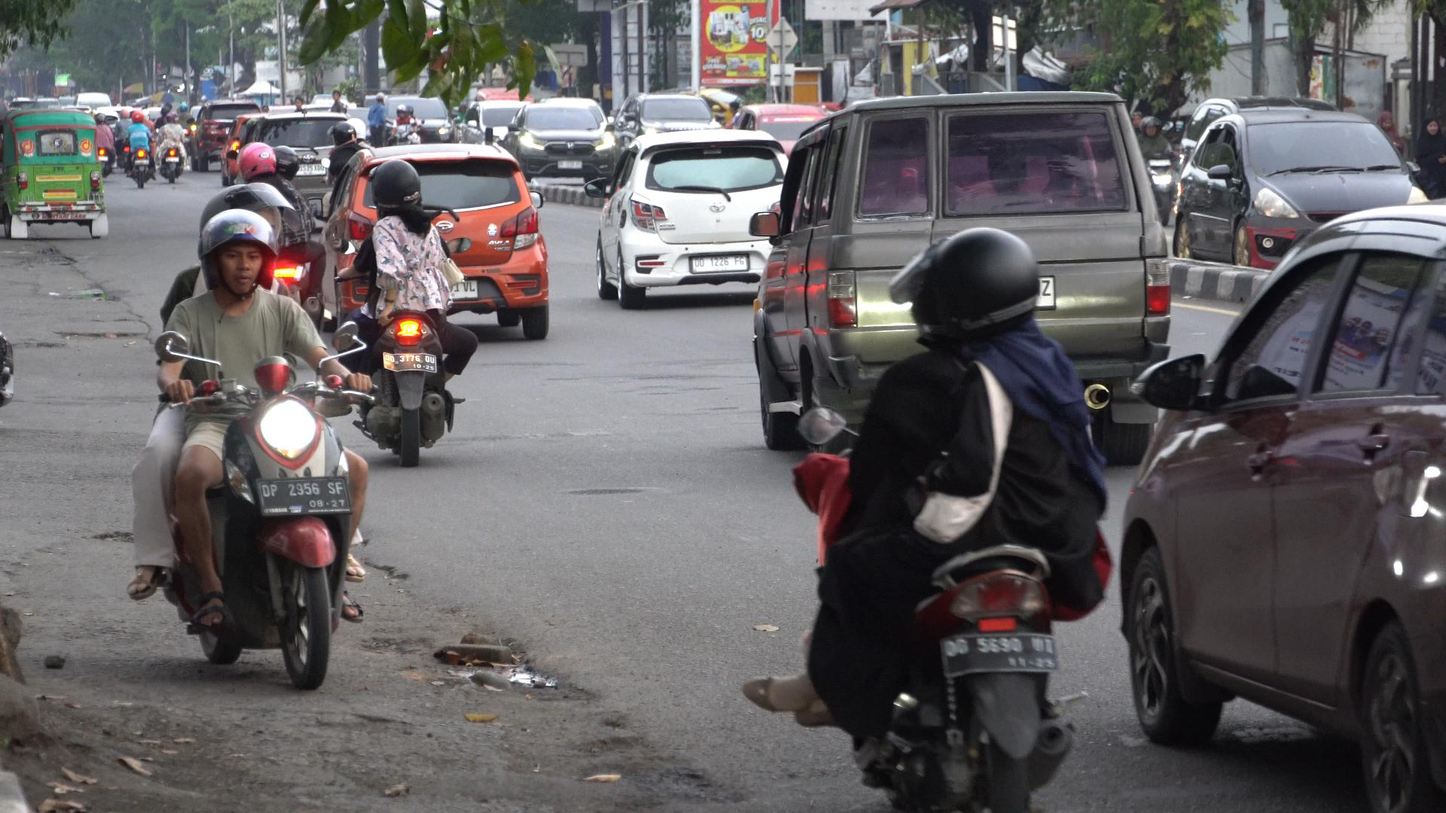number-plate: (254, 472, 353, 515)
